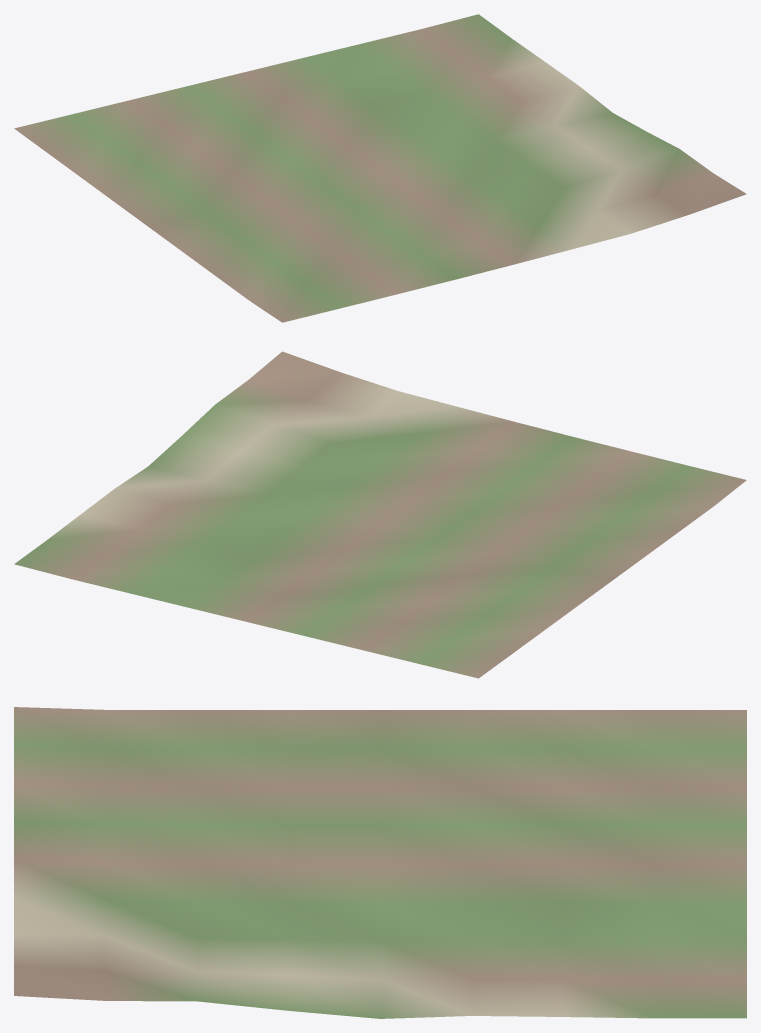
3 renders of one model, top to bottom at view 1: azimuth 30°, elevation 25°; view 2: azimuth 150°, elevation 25°; view 3: azimuth 270°, elevation 25°, orthographic. The views are drawn at different scales.
Visible parts, largest first — view 1: Lo; view 2: Lo; view 3: Lo.
Boxes of the visible parts, x1,y1,x2,y2 form: Lo: (14, 14, 746, 322); Lo: (14, 351, 746, 678); Lo: (14, 707, 746, 1018).
Size of the model in its own units: 256 by 9.12 by 256.
